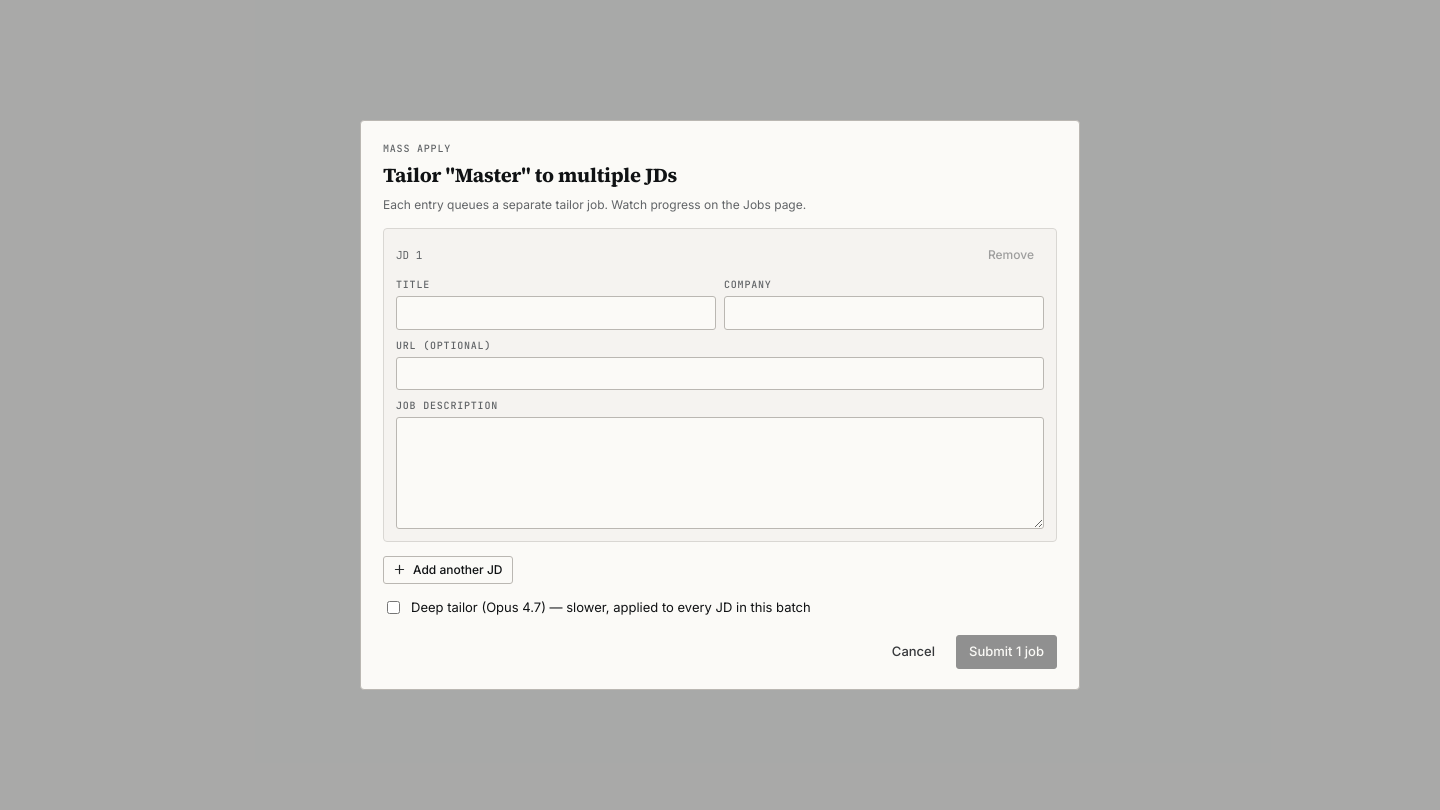
Scenario: Submit disabled until all rows valid
This screenshot has width=1440, height=810.
Check: the button "Submit 1 job" is disabled, box [956,635,1057,669]
Type "SWE" into the field labelled "Title" at (556, 313), box [396,296,716,330]
Type "Acme" into the field labelled "Company" at (884, 313), box [724,296,1044,330]
Type "JD body" into the text box labelled "Job description" at (720, 473), box [396,417,1044,529]
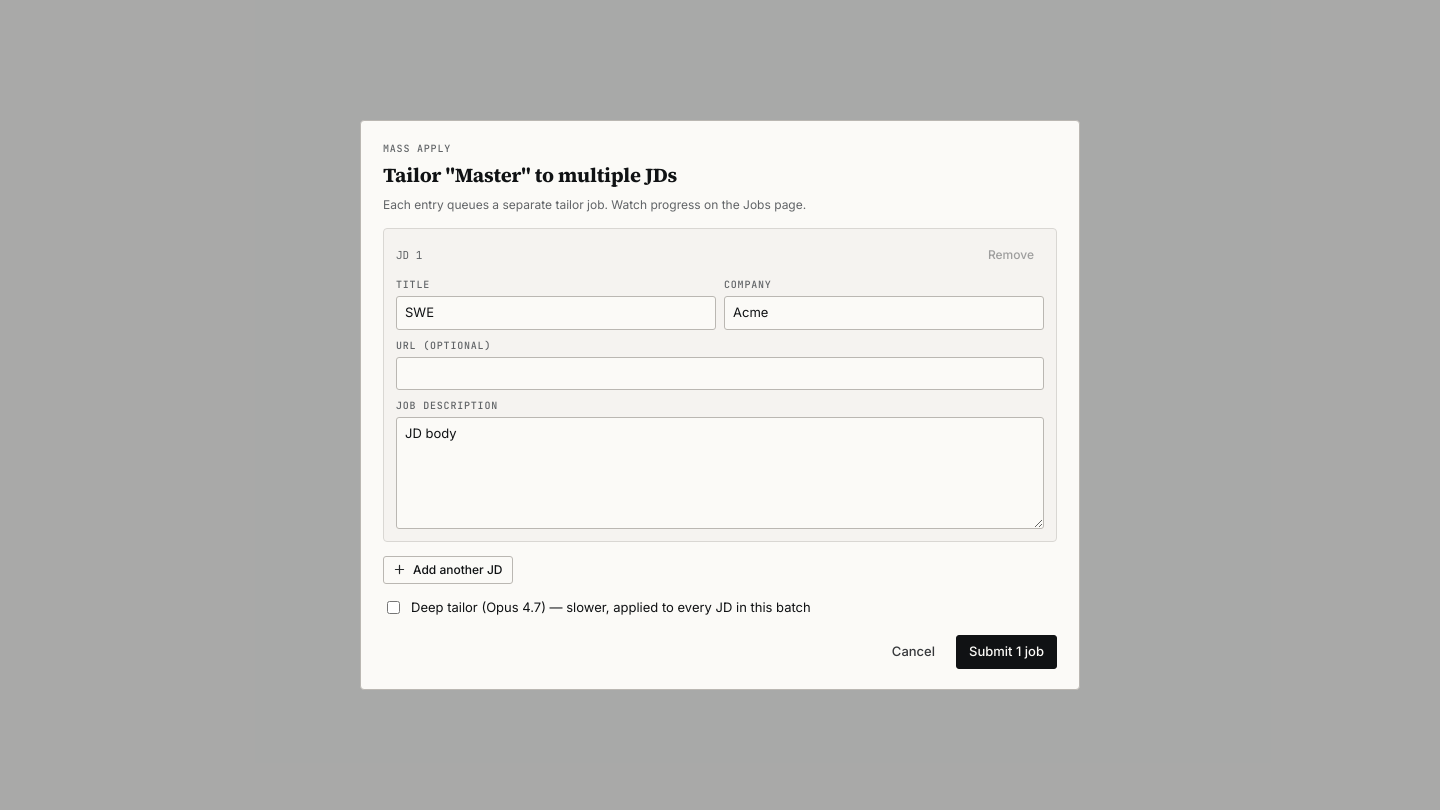
Check: the button "Submit 1 job" is enabled, box [956,635,1057,669]
Click the button "Add another JD" at (448, 570), box [383,556,512,584]
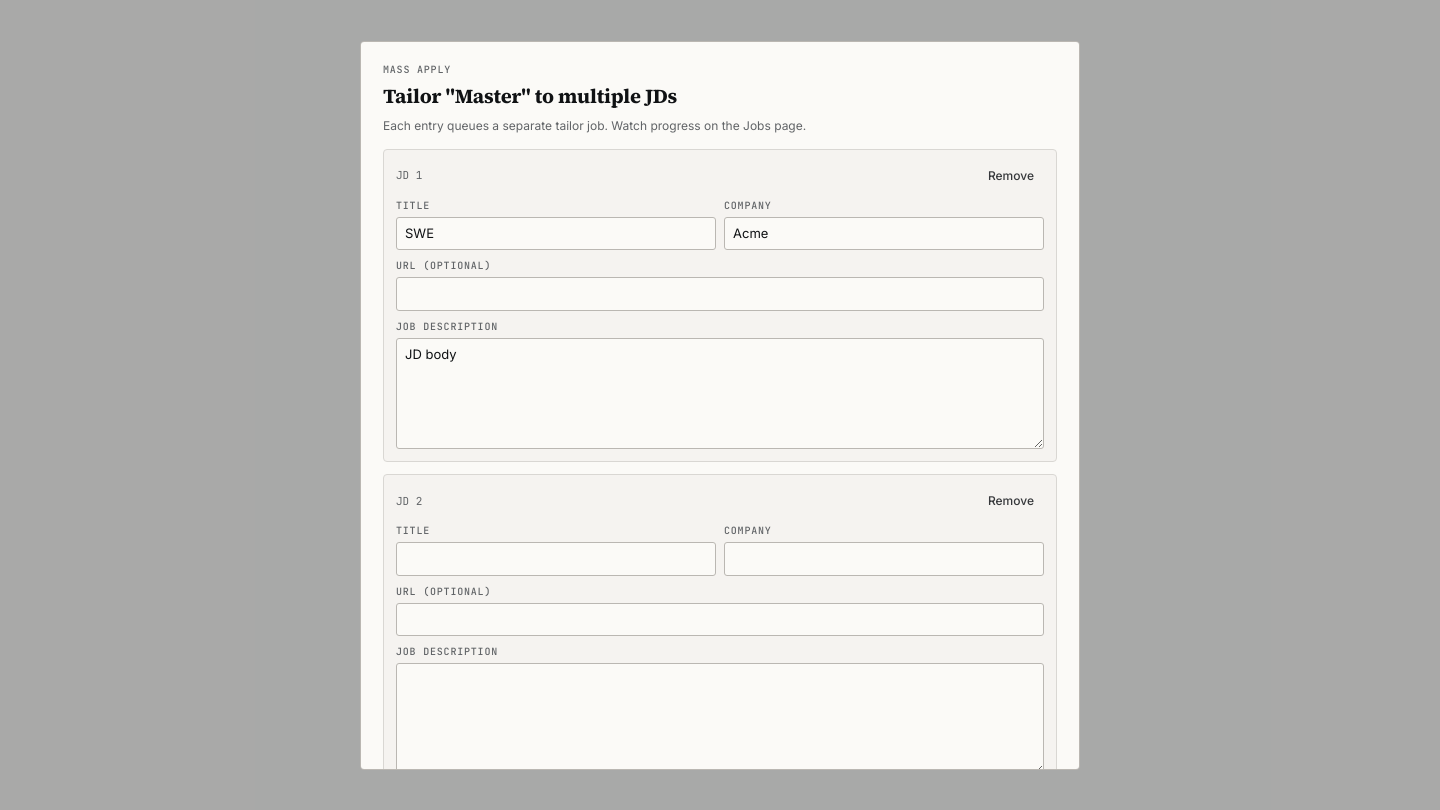
Type "SWE II" into the 2nd field labelled "Title" at (556, 559), box [396,542,716,576]
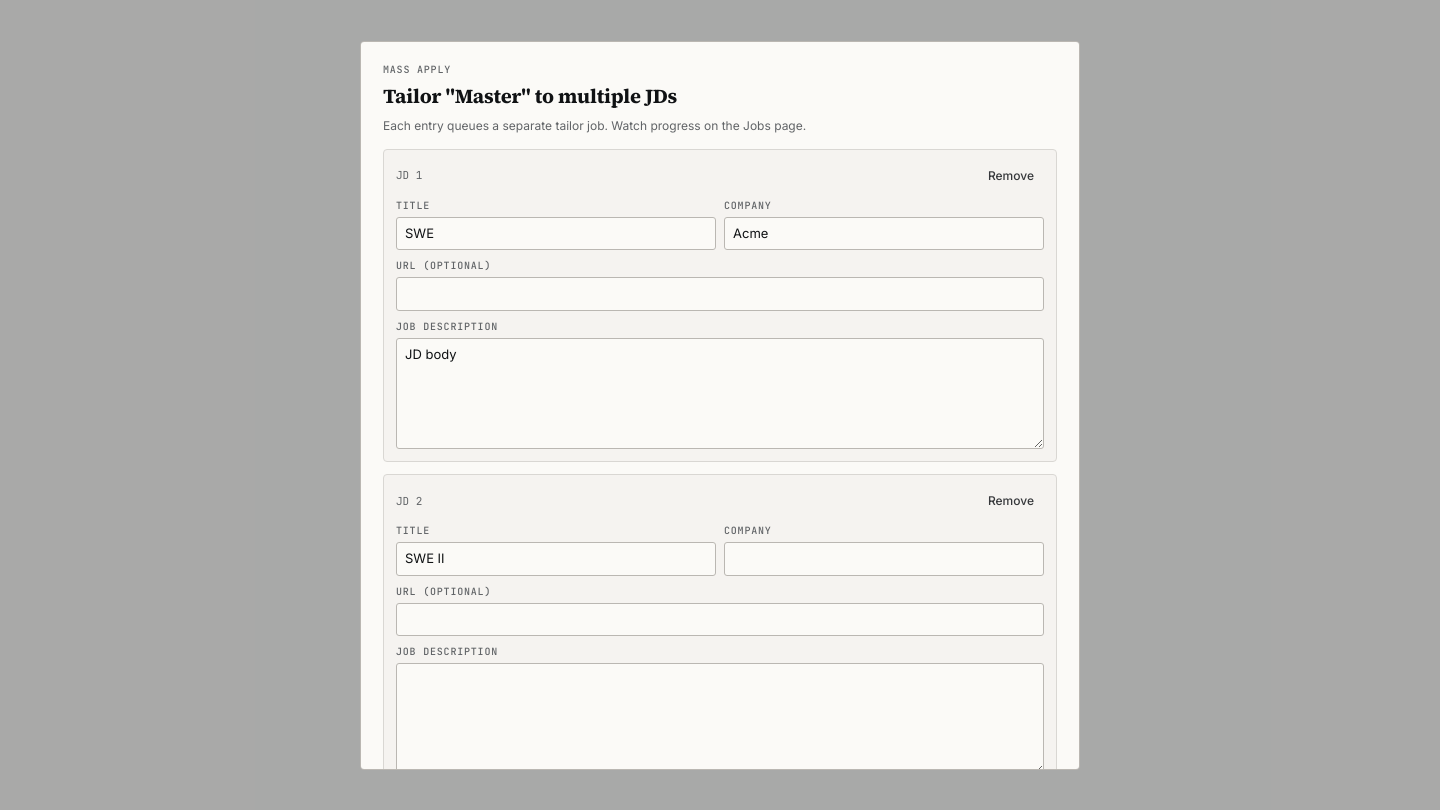
Type "Beta" into the 2nd field labelled "Company" at (884, 559), box [724,542,1044,576]
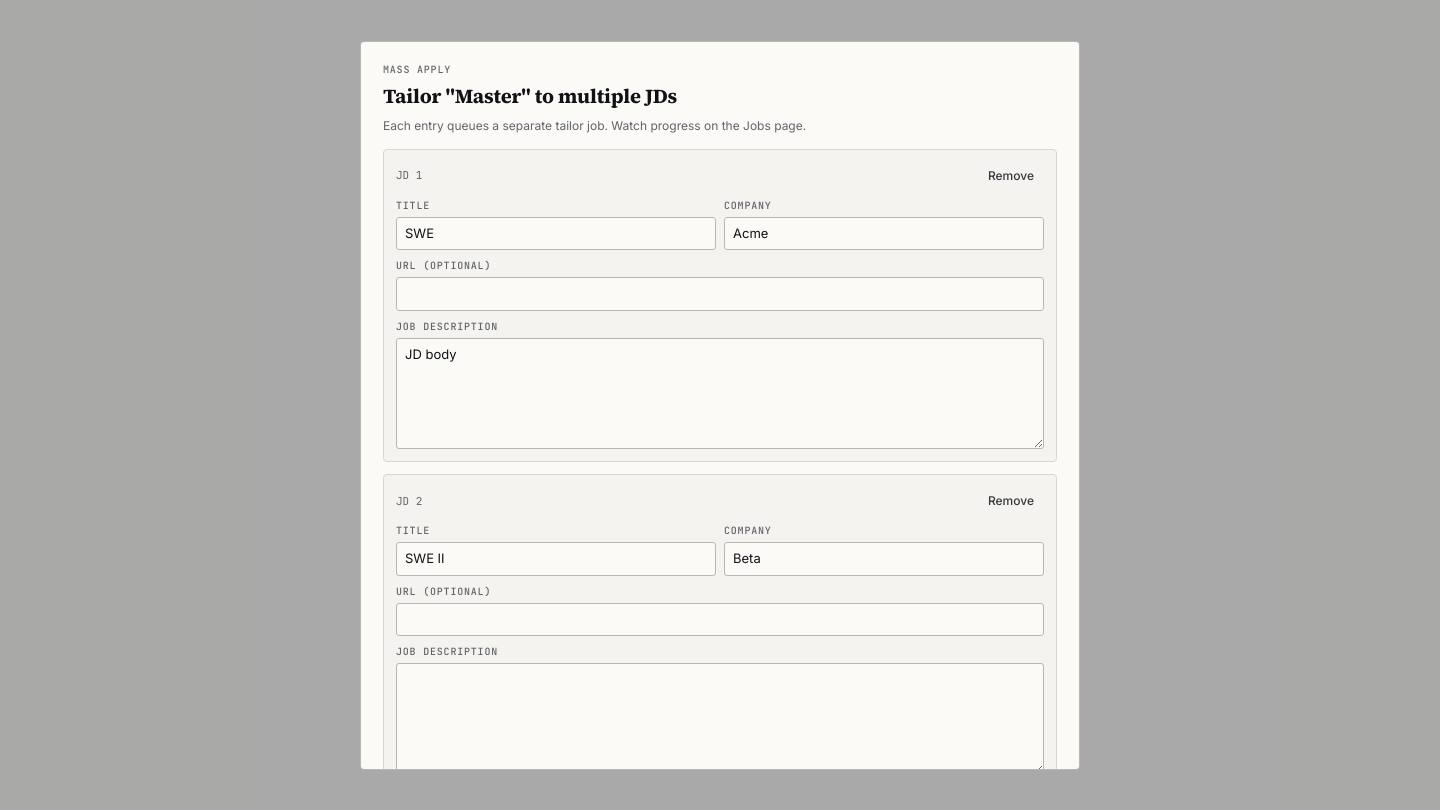
Type "JD body B" into the 2nd text box labelled "Job description" at (720, 719), box [396,663,1044,774]
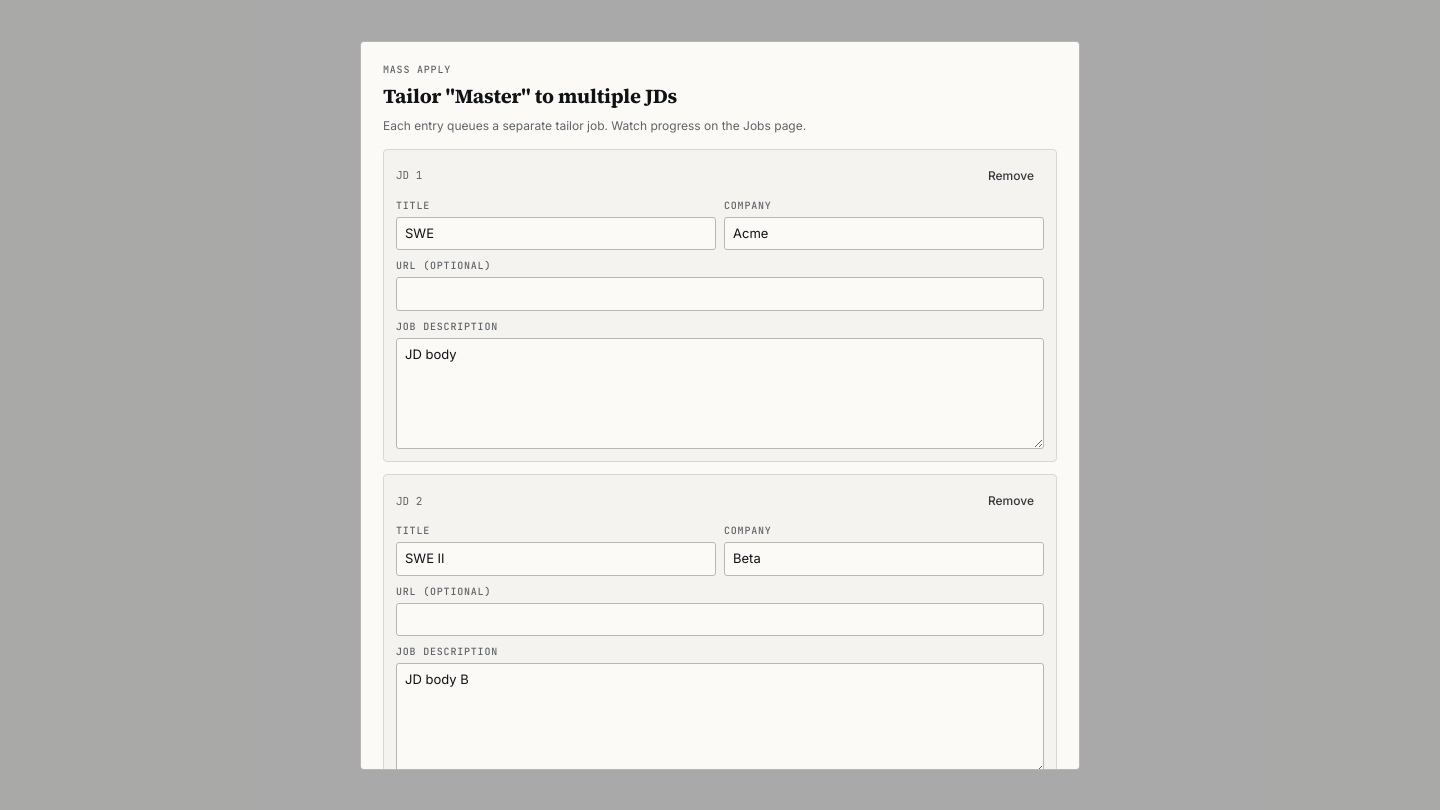
Clear the 2nd field labelled "Company" at (884, 559), box [724,542,1044,576]
(page scrolled)
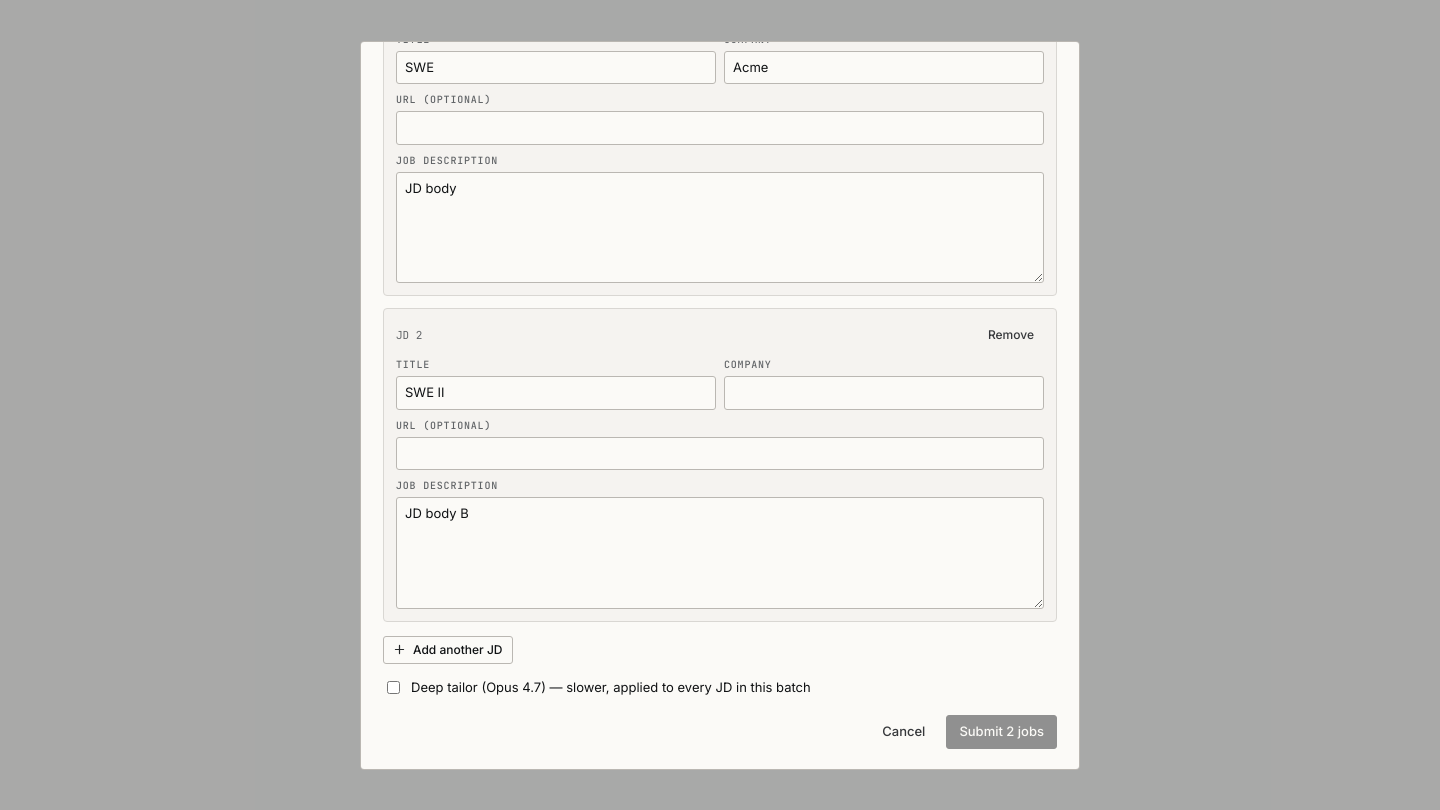
Check: the button "Submit 2 jobs" is disabled, box [946,715,1057,748]
